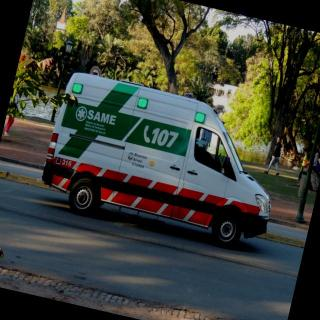Ambulance: (21, 29, 307, 288)
